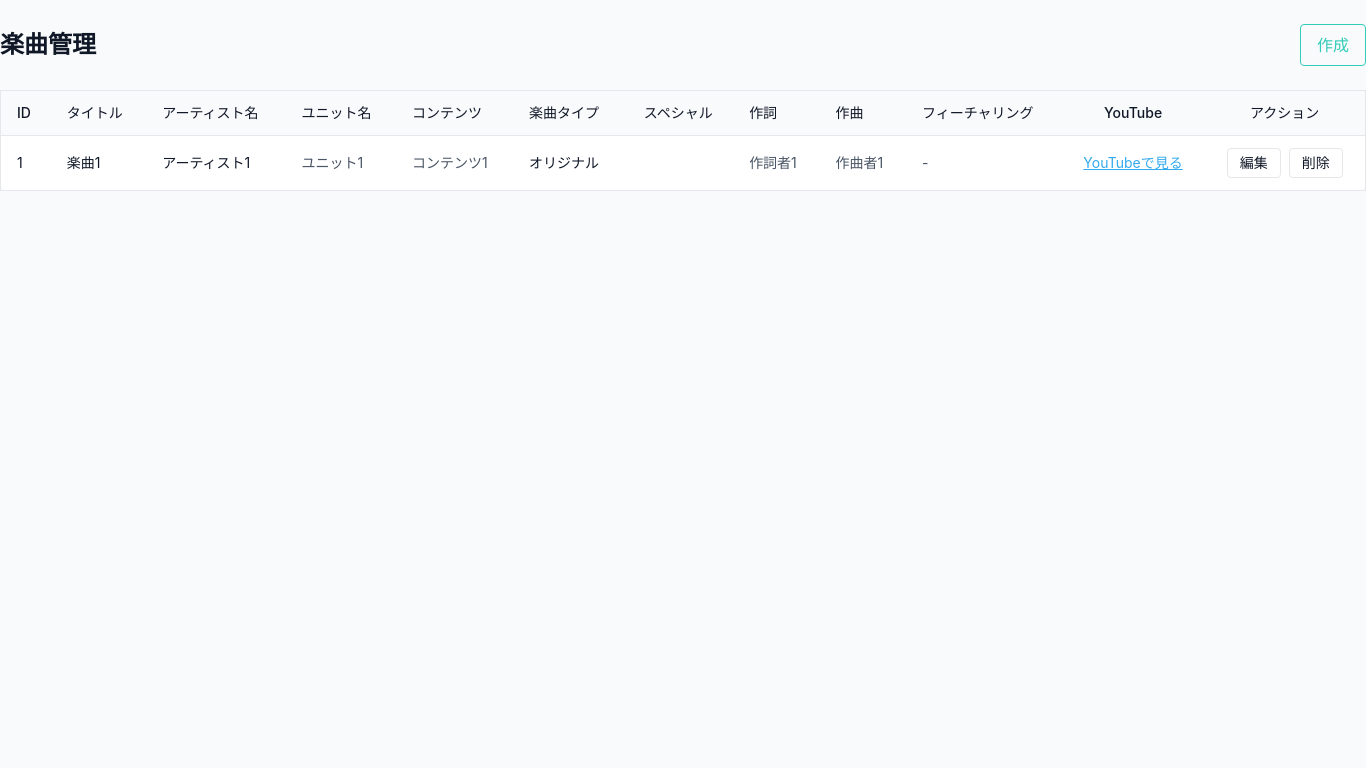
Test: MusicListPage › 削除ボタンをクリックしたときに確認ダイアログが表示される
Click the button with test id "delete-button-1".
click(1316, 163)  # box [1289,148,1343,178]
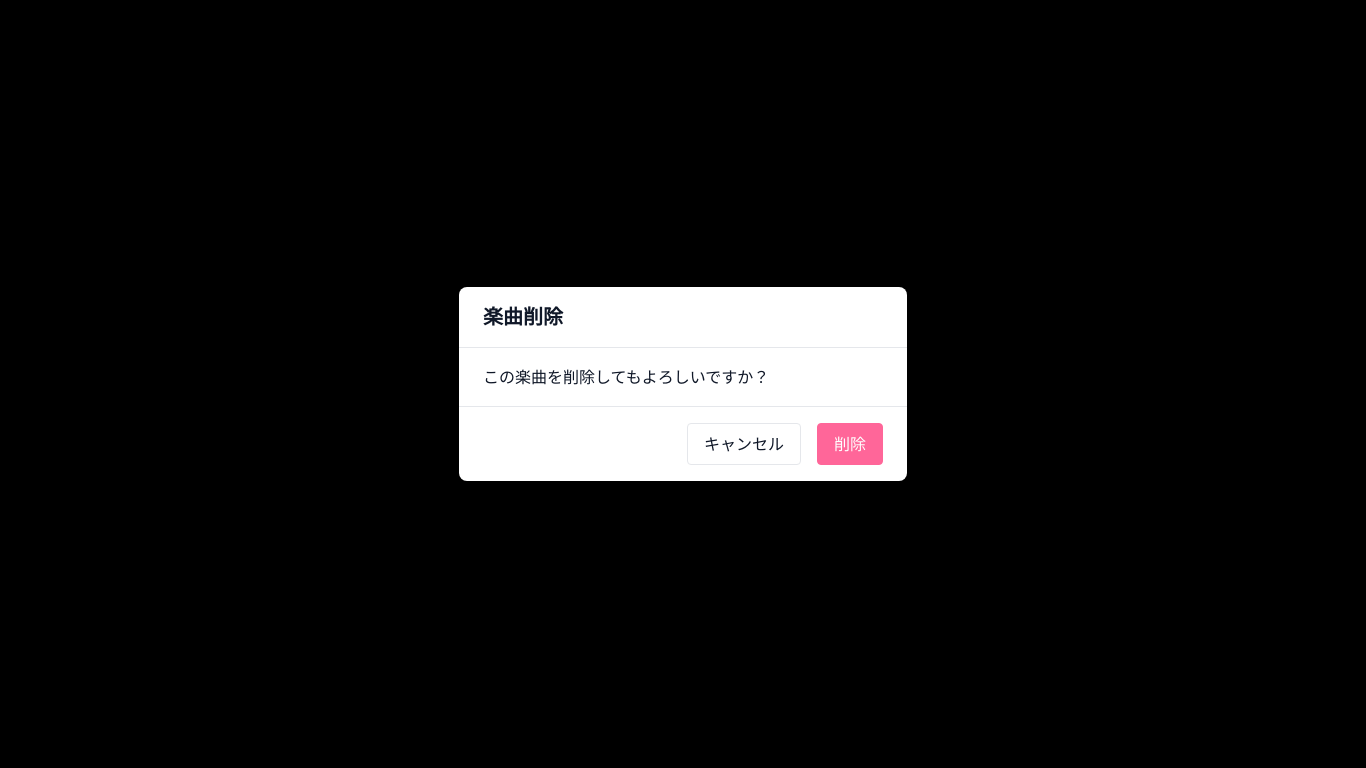
Result: the dialog with test id "confirm-dialog" is shown at [459,287,907,481]
